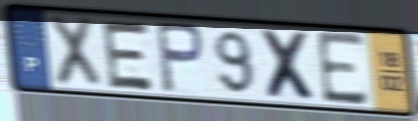9: (211, 28, 258, 96)
E: (313, 29, 372, 109), (100, 18, 158, 93)
P: (153, 19, 207, 97)
X: (257, 26, 322, 105), (46, 13, 105, 92)
